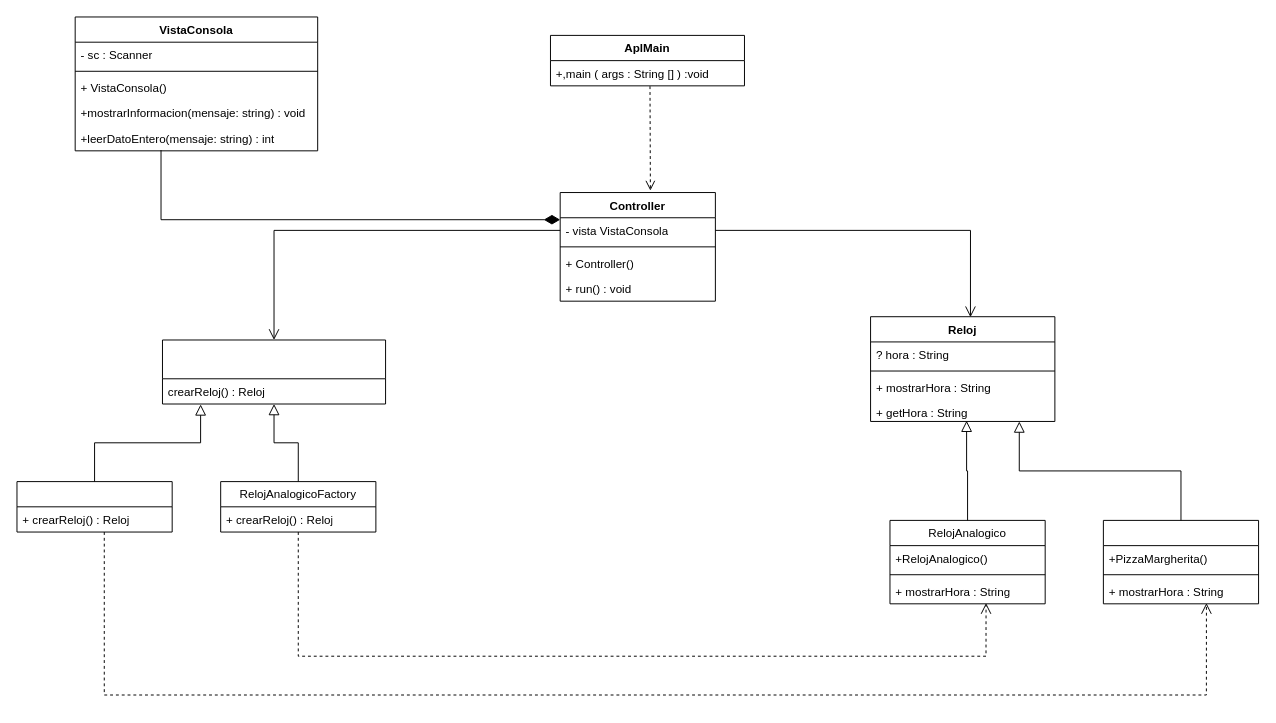
Some shapes in this 1276 by 723 pixel diagram are drawn without their labels. The box of each missing label's shape, as (x1, y1, x2, y2) in pixels:
<<interface>> RelojFactory: (162, 339, 386, 404)
RelojDigital: (1102, 519, 1259, 604)
RelojDogitalFactory: (16, 481, 172, 532)
